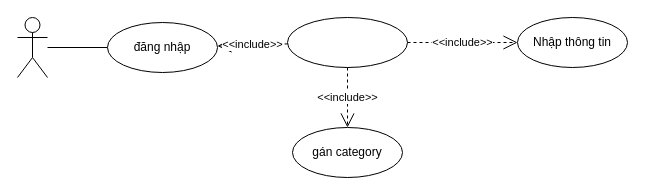
This 645x195 diagram has some shape labels left out. Each missing label, with the centre of its shape:
"tạo sản phẩm" goes at pixel 347 42.
"User" goes at pixel 32 47.
